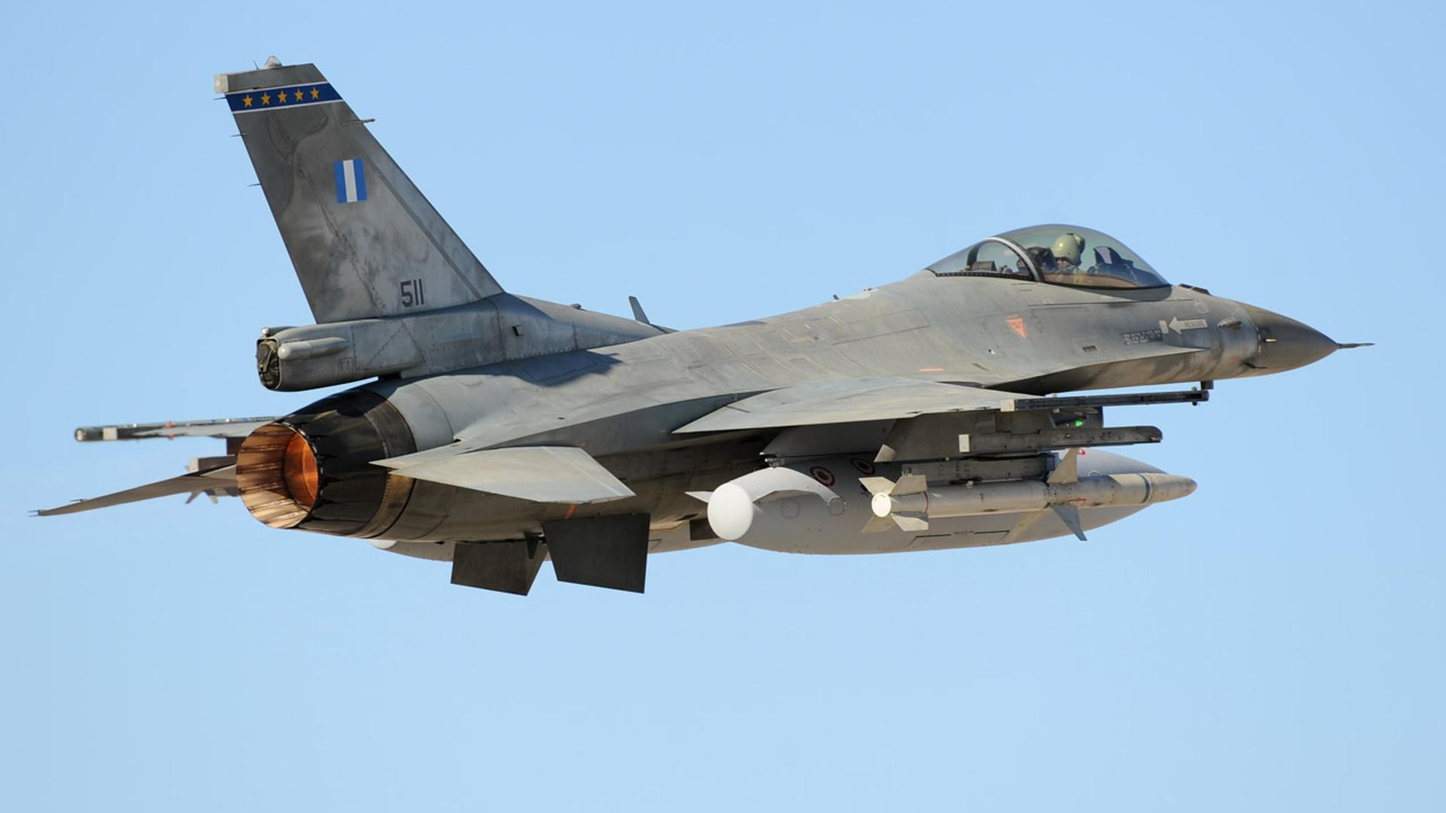aircraft: (38, 56, 1371, 601)
